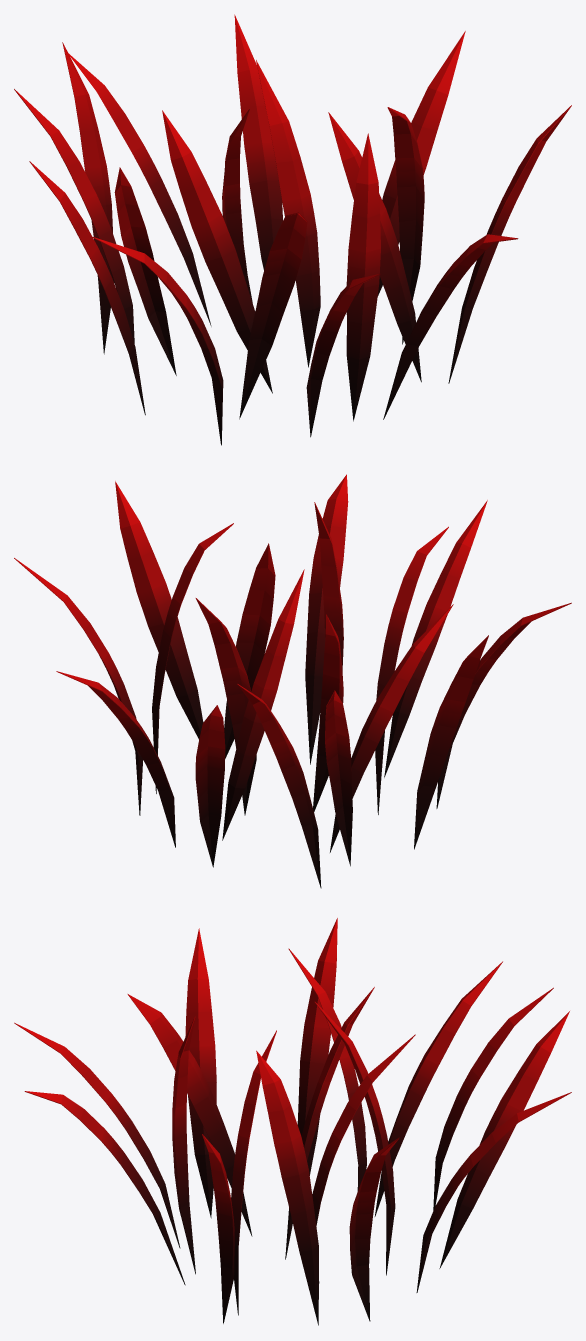
Rendered from Grass.fbx.
3 views of the same model, one above another, from view 1: azimuth 30°, elevation 25°; view 2: azimuth 150°, elevation 25°; view 3: azimuth 270°, elevation 25° (orthographic). The views are drawn at different scales.
Visible parts, largest first — view 1: Plane.028, Plane.034, Plane.023, Plane.021, Plane.035, Plane.026, Plane.027, Plane.036, Plane.038, Plane.033, Plane.022, Plane.032 (+6 smaller); view 2: Plane.024, Plane.037, Plane.030, Plane.031, Plane.029, Plane.027, Plane.036, Plane.033, Plane.038, Plane.022, Plane.035, Plane.023 (+6 smaller); view 3: Plane.026, Plane.033, Plane.025, Plane.029, Plane.035, Plane.022, Plane.032, Plane.034, Plane.038, Plane.024, Plane.027, Plane.031 (+6 smaller).
Part boxes in pixels (x1=…): Plane.028: x1=162, y1=110, x2=272, y2=393; Plane.034: x1=346, y1=133, x2=380, y2=421; Plane.023: x1=256, y1=60, x2=320, y2=367; Plane.021: x1=234, y1=14, x2=282, y2=270; Plane.035: x1=239, y1=212, x2=307, y2=419; Plane.026: x1=387, y1=107, x2=424, y2=344; Plane.027: x1=328, y1=112, x2=421, y2=382; Plane.036: x1=114, y1=167, x2=176, y2=375; Plane.038: x1=62, y1=42, x2=114, y2=354; Plane.033: x1=68, y1=53, x2=211, y2=326; Plane.022: x1=14, y1=89, x2=134, y2=343; Plane.032: x1=377, y1=31, x2=465, y2=296; Plane.024: x1=115, y1=481, x2=203, y2=739; Plane.037: x1=222, y1=569, x2=304, y2=840; Plane.030: x1=305, y1=474, x2=348, y2=764; Plane.031: x1=384, y1=500, x2=487, y2=777; Plane.029: x1=414, y1=635, x2=488, y2=849; Plane.027: x1=224, y1=543, x2=275, y2=758; Plane.036: x1=330, y1=604, x2=453, y2=852; Plane.033: x1=195, y1=705, x2=225, y2=867; Plane.038: x1=237, y1=684, x2=321, y2=888; Plane.022: x1=325, y1=690, x2=352, y2=866; Plane.035: x1=375, y1=526, x2=448, y2=814; Plane.023: x1=195, y1=598, x2=256, y2=815; Plane.026: x1=256, y1=1050, x2=318, y2=1325; Plane.033: x1=439, y1=1011, x2=569, y2=1268; Plane.025: x1=185, y1=928, x2=216, y2=1218; Plane.029: x1=297, y1=918, x2=337, y2=1175; Plane.035: x1=127, y1=994, x2=252, y2=1236; Plane.022: x1=374, y1=961, x2=502, y2=1216; Plane.032: x1=349, y1=1137, x2=399, y2=1321; Plane.034: x1=172, y1=1016, x2=195, y2=1274; Plane.038: x1=433, y1=987, x2=553, y2=1210; Plane.024: x1=202, y1=1134, x2=234, y2=1323; Plane.027: x1=231, y1=1030, x2=276, y2=1315; Plane.031: x1=14, y1=1022, x2=180, y2=1248.
Bounding box in the file's own units: 979 × 554 × 1059.
